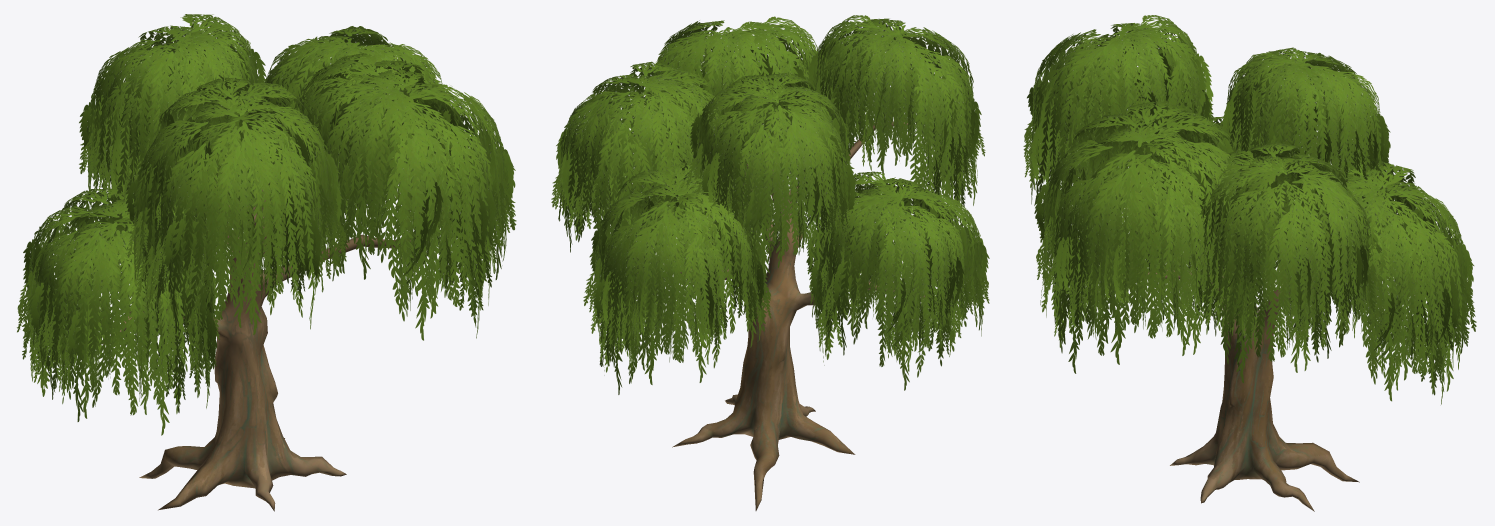
File: tree-willow_tree.glb
The picture shows the model from 3 angles, left to right: view 1: azimuth 30°, elevation 25°; view 2: azimuth 150°, elevation 25°; view 3: azimuth 270°, elevation 25°; orthographic projection. The views are drawn at different scales.
Visible parts, largest first — view 1: Willow_Tree.dmx-static; view 2: Willow_Tree.dmx-static; view 3: Willow_Tree.dmx-static.
Part boxes in pixels (bbox=[...]): Willow_Tree.dmx-static: bbox=[17, 14, 516, 511]; Willow_Tree.dmx-static: bbox=[551, 15, 989, 510]; Willow_Tree.dmx-static: bbox=[1023, 15, 1476, 511].
Bounding box in the file's own units: 15.85 × 16.25 × 15.26.
Materials: 2 (2 with a texture image).
